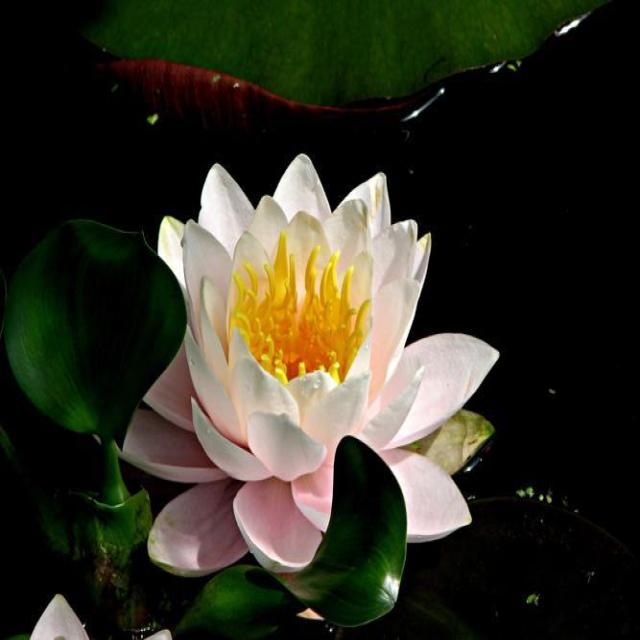rose: (46, 98, 581, 640)
